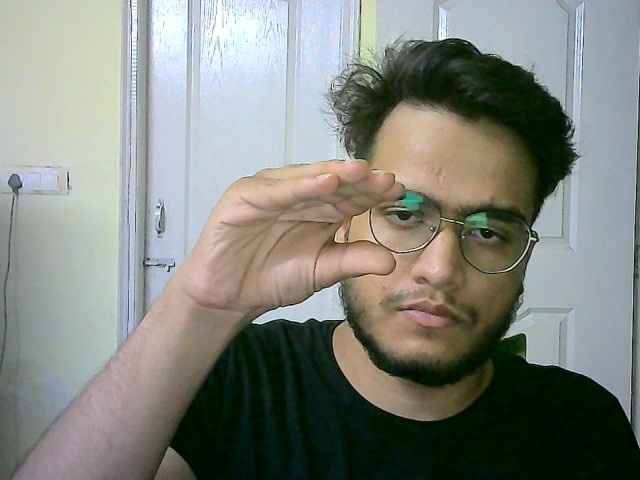No: (186, 150, 400, 314)
